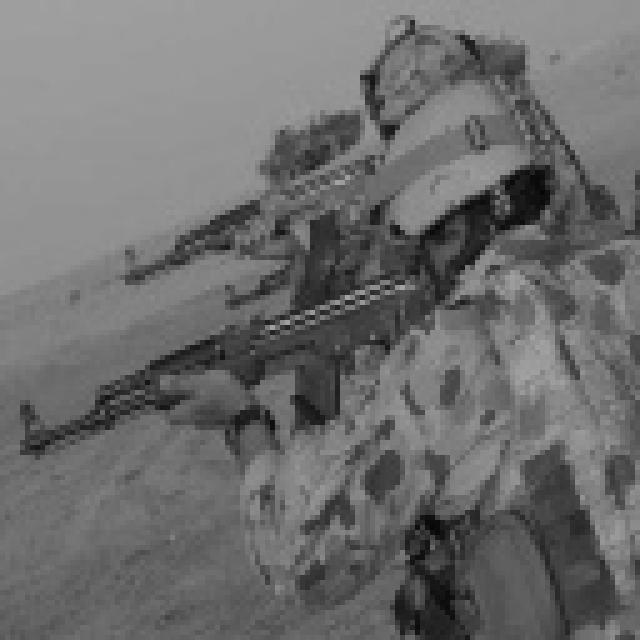Rifle: (0, 259, 453, 472), (116, 140, 396, 300)
